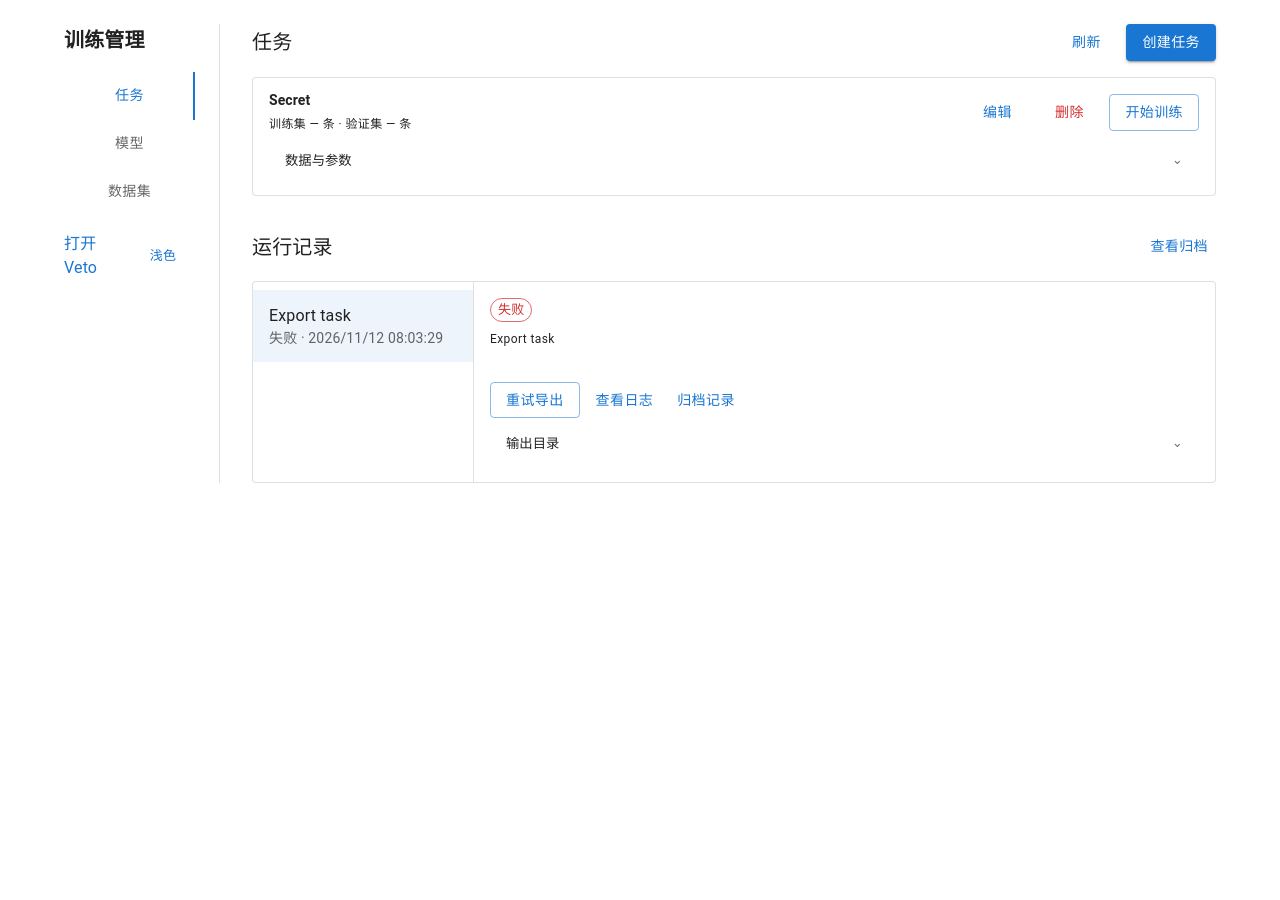
Scenario: failed export retries without showing an empty checkpoint section or internal run id
Click the button "重试导出" at (535, 400), box [490, 382, 580, 418]
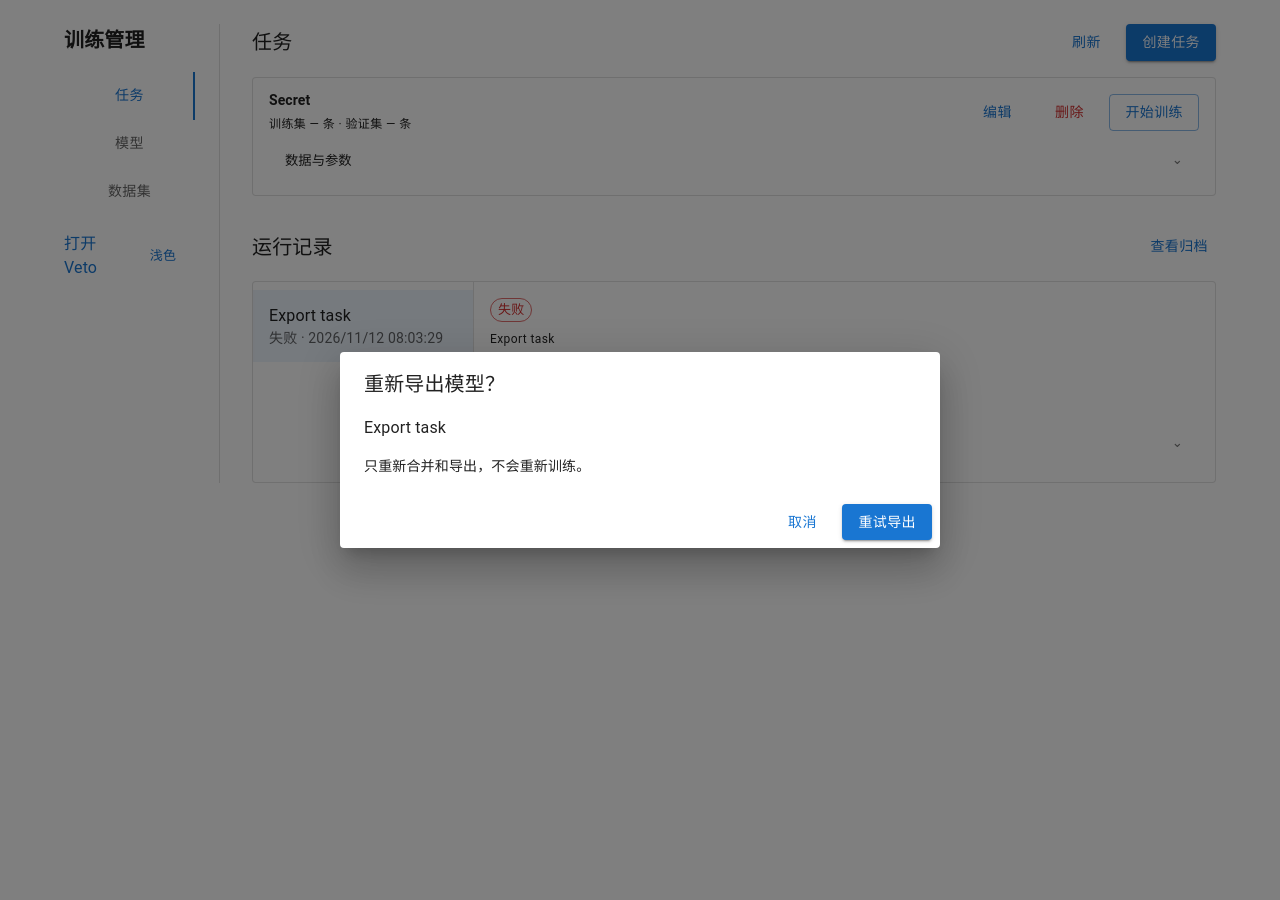
Expected: the text "Export task" is shown, [364, 418, 446, 437]
Click the button "重试导出" at (887, 522), box [842, 504, 932, 540]
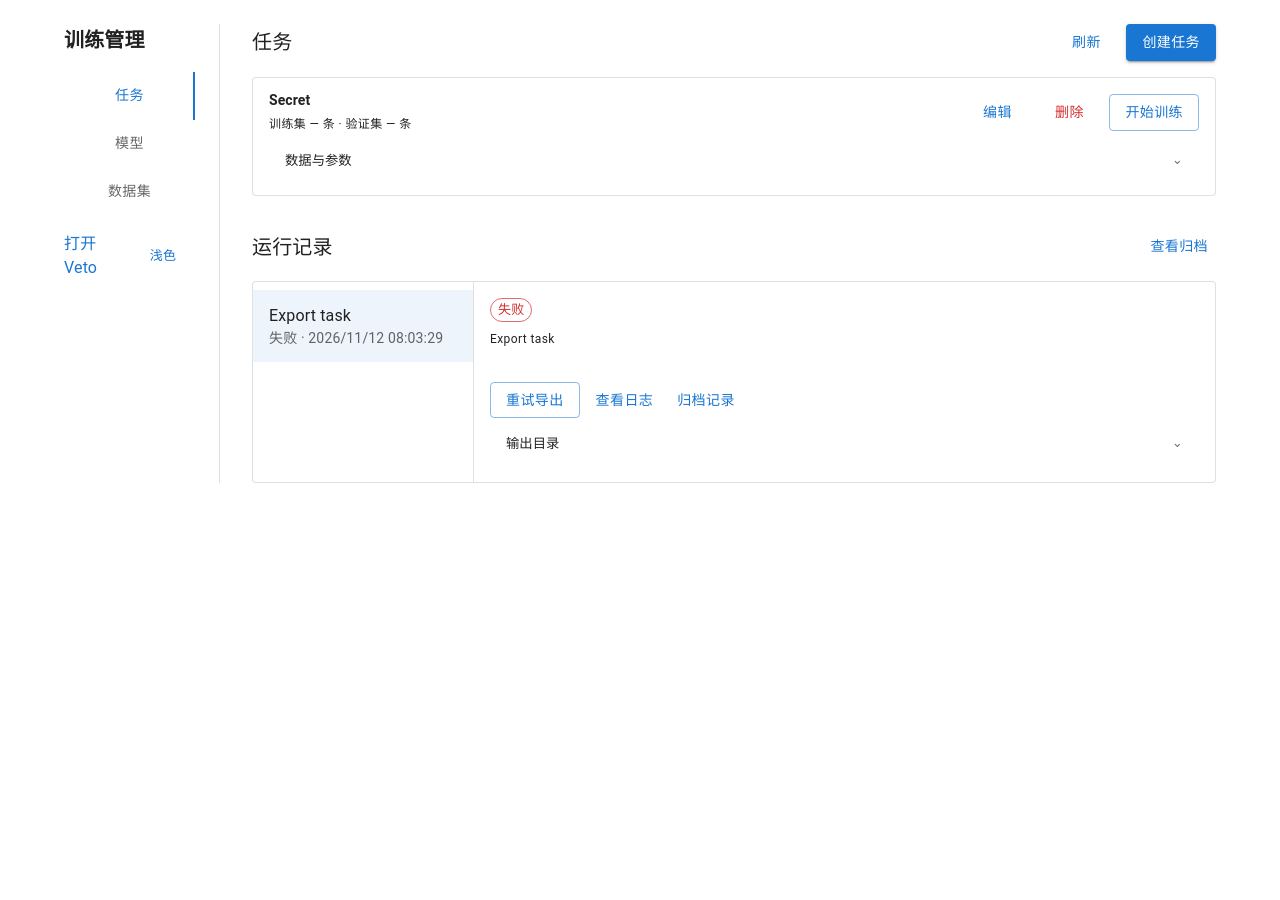
Expected: the dialog is gone
